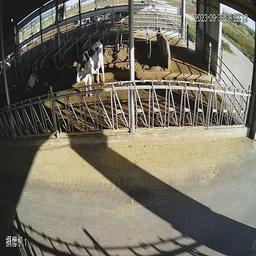cow: (73, 38, 109, 101), (20, 58, 48, 94)
